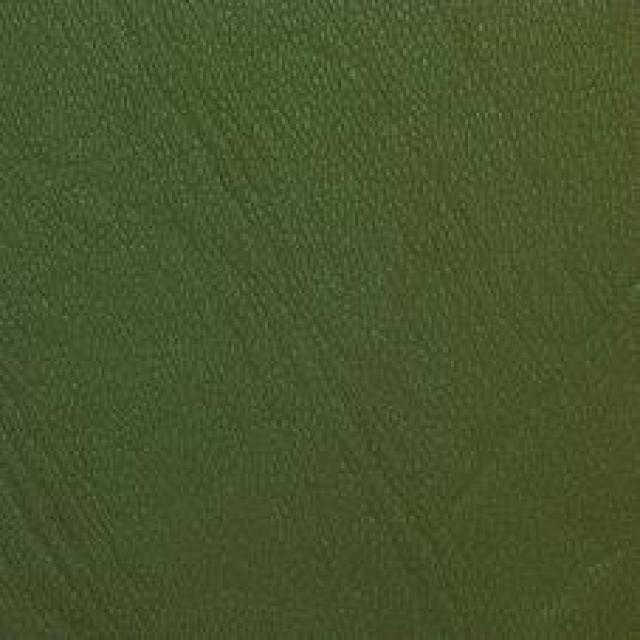Growth Marks: (128, 45, 304, 280), (312, 382, 453, 594), (17, 451, 152, 607)
